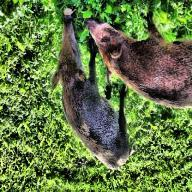boar: (33, 28, 141, 182), (86, 13, 192, 114)
